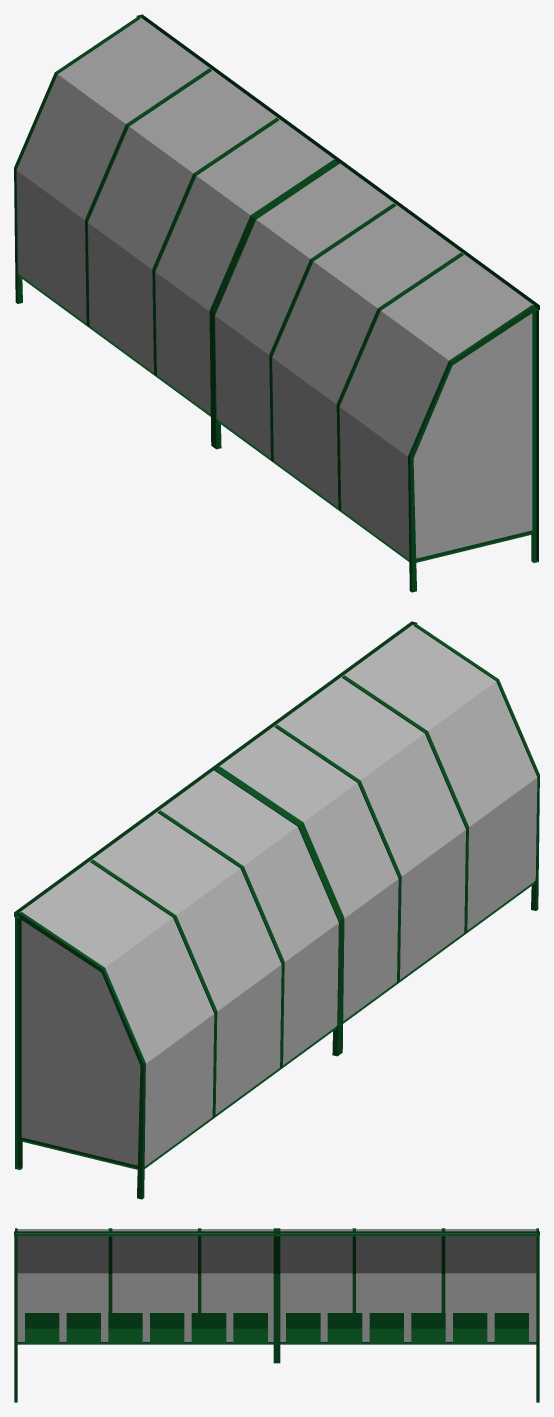
Rendered from Reserve_Bench.fbx.
3 renders of one model, top to bottom at view 1: azimuth 30°, elevation 25°; view 2: azimuth 150°, elevation 25°; view 3: azimuth 270°, elevation 25°, orthographic. The views are drawn at different scales.
Visible parts, largest first — view 1: Reserve_Bench; view 2: Reserve_Bench; view 3: Reserve_Bench.
Part boxes in pixels (bbox=[...]): Reserve_Bench: bbox=[14, 14, 539, 592]; Reserve_Bench: bbox=[14, 621, 539, 1199]; Reserve_Bench: bbox=[14, 1228, 539, 1402].
Bounding box in the file's own units: 58.27 × 111 × 311.
